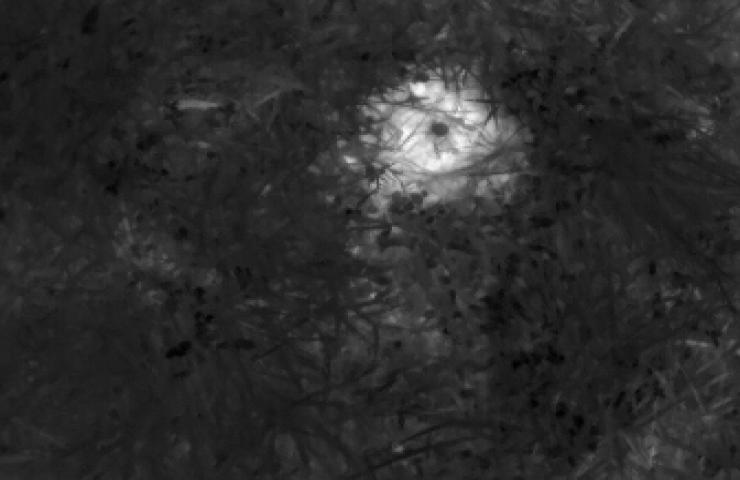landmines: (333, 66, 525, 207)
